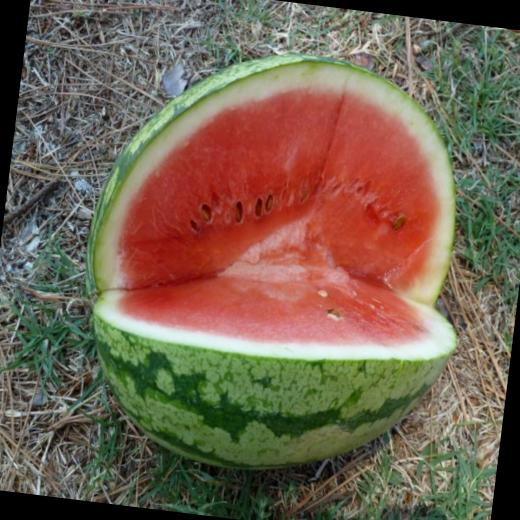Cherry: (49, 28, 490, 494)
